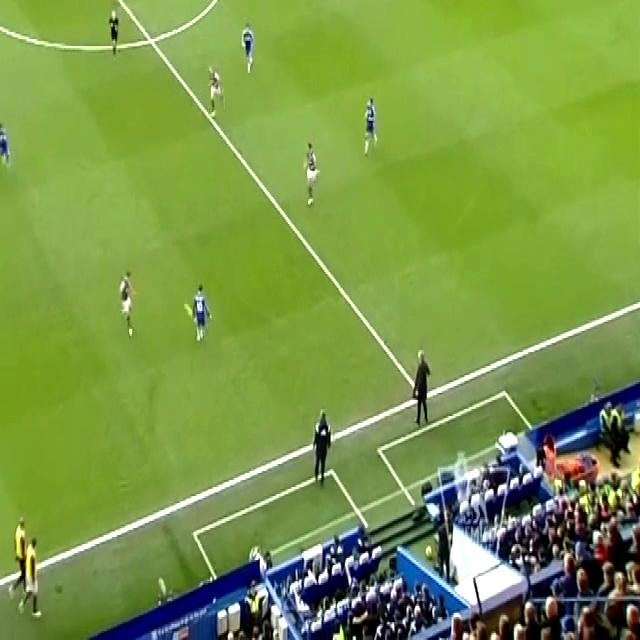referee: (104, 2, 125, 60)
soccer-player: (186, 274, 217, 350), (114, 259, 140, 348), (299, 132, 324, 218), (360, 84, 384, 160), (201, 56, 224, 120), (240, 14, 258, 79), (0, 116, 13, 176)
